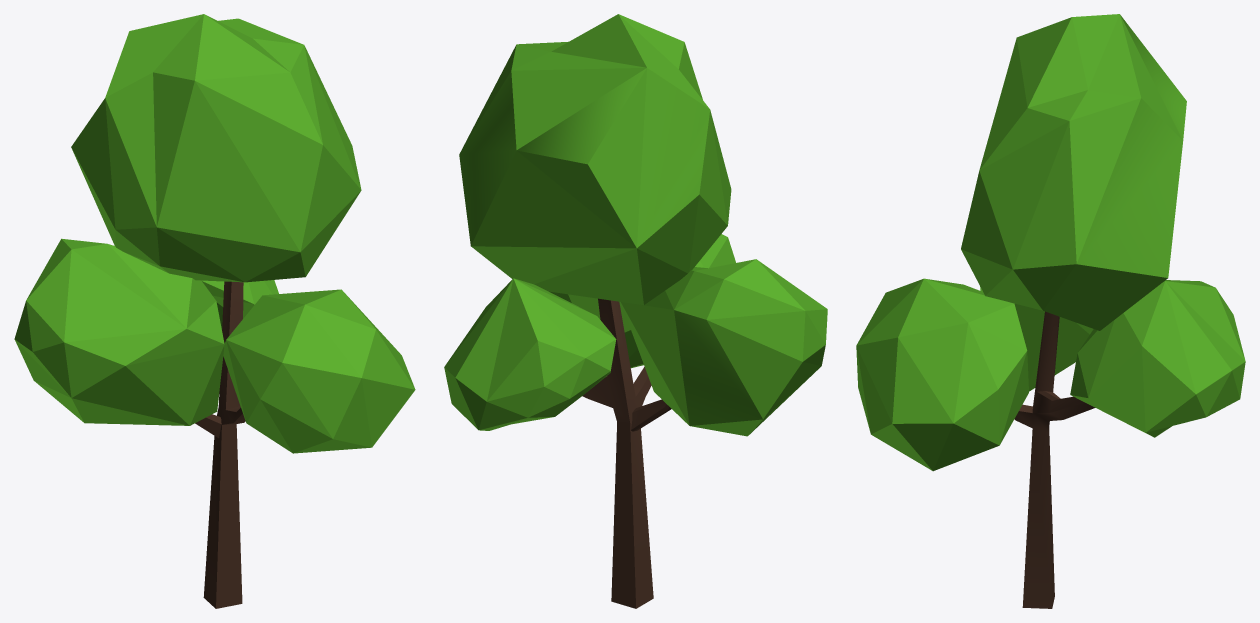
The model's file is tree.fbx.
3 renders of one model, left to right at view 1: azimuth 30°, elevation 25°; view 2: azimuth 150°, elevation 25°; view 3: azimuth 270°, elevation 25°, orthographic. The views are drawn at different scales.
Parts seen in each view (by area): view 1: Object1218; view 2: Object1218; view 3: Object1218.
Boxes of the visible parts, x1=… form: Object1218: x1=14, y1=14, x2=415, y2=608; Object1218: x1=444, y1=14, x2=827, y2=608; Object1218: x1=856, y1=14, x2=1245, y2=608.
Bounding box in the file's own units: 3858 × 6315 × 3817.
